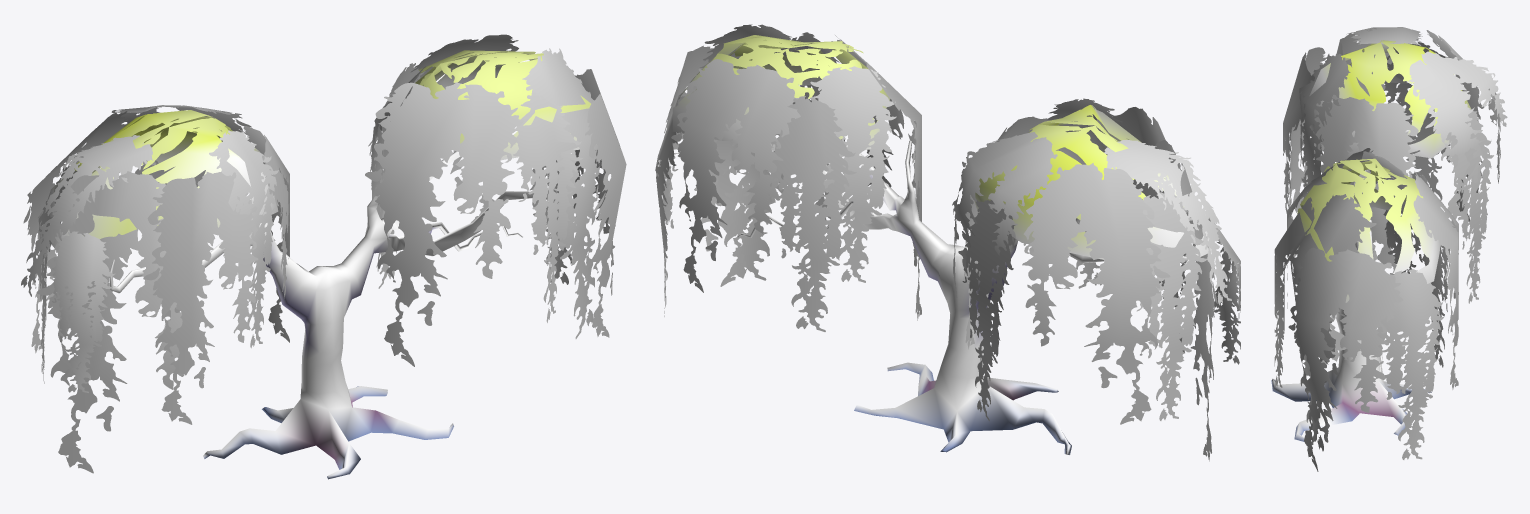
Rendered from Koks.fbx.
3 renders of one model, left to right at view 1: azimuth 30°, elevation 25°; view 2: azimuth 150°, elevation 25°; view 3: azimuth 270°, elevation 25°, orthographic. The views are drawn at different scales.
Visible parts, largest first — view 1: Leaves02.007, Cylinder, Leaves02.004, Leaves02.005, Sphere.002, Leaves.010, Leaves.009, Leaves.004, Sphere.001, Leaves.003, Leaves.005, Leaves02.008 (+8 smaller); view 2: Leaves02.001, Cylinder, Leaves02.006, Leaves.008, Leaves.007, Leaves.002, Sphere.002, Leaves02.002, Sphere.001, Leaves.001, Leaves.003, Leaves.010 (+8 smaller); view 3: Leaves02.008, Sphere.001, Leaves.006, Leaves02.002, Leaves02.003, Sphere.002, Cylinder, Leaves.010, Leaves.001, Leaves.005, Leaves02.006, Leaves02.004 (+8 smaller).
Part boxes in pixels (x1=…): Leaves02.007: x1=365, y1=82, x2=524, y2=366; Cylinder: x1=109, y1=151, x2=539, y2=479; Leaves02.004: x1=143, y1=172, x2=258, y2=424; Leaves02.005: x1=36, y1=171, x2=184, y2=473; Sphere.002: x1=47, y1=110, x2=278, y2=247; Leaves.010: x1=522, y1=48, x2=599, y2=338; Leaves.009: x1=513, y1=92, x2=582, y2=322; Leaves.004: x1=52, y1=231, x2=115, y2=392; Sphere.001: x1=415, y1=50, x2=596, y2=160; Leaves.003: x1=21, y1=135, x2=153, y2=296; Leaves.005: x1=209, y1=130, x2=278, y2=348; Leaves02.008: x1=575, y1=69, x2=626, y2=337; Leaves02.001: x1=1022, y1=163, x2=1170, y2=424; Cylinder: x1=737, y1=84, x2=1188, y2=454; Leaves02.006: x1=671, y1=59, x2=800, y2=292; Leaves.008: x1=767, y1=96, x2=856, y2=331; Leaves.007: x1=810, y1=66, x2=896, y2=282; Leaves.002: x1=1136, y1=192, x2=1207, y2=420; Sphere.002: x1=974, y1=105, x2=1211, y2=263; Leaves02.002: x1=952, y1=132, x2=1057, y2=297; Sphere.001: x1=672, y1=35, x2=889, y2=150; Leaves.001: x1=962, y1=199, x2=1015, y2=421; Leaves.003: x1=1104, y1=140, x2=1231, y2=305; Leaves.010: x1=699, y1=24, x2=810, y2=280; Leaves02.008: x1=1288, y1=247, x2=1403, y2=471; Sphere.001: x1=1297, y1=158, x2=1440, y2=302; Leaves.006: x1=1371, y1=269, x2=1443, y2=459; Leaves02.002: x1=1408, y1=51, x2=1507, y2=220; Leaves02.003: x1=1314, y1=94, x2=1418, y2=274; Sphere.002: x1=1309, y1=40, x2=1470, y2=158; Cylinder: x1=1271, y1=113, x2=1431, y2=441; Leaves.010: x1=1290, y1=194, x2=1376, y2=451; Leaves.001: x1=1445, y1=109, x2=1493, y2=303; Leaves.005: x1=1299, y1=53, x2=1350, y2=198; Leaves02.006: x1=1413, y1=171, x2=1458, y2=389; Leaves02.004: x1=1283, y1=47, x2=1326, y2=257.
Bounding box in the file's own units: 711 × 412 × 294.
